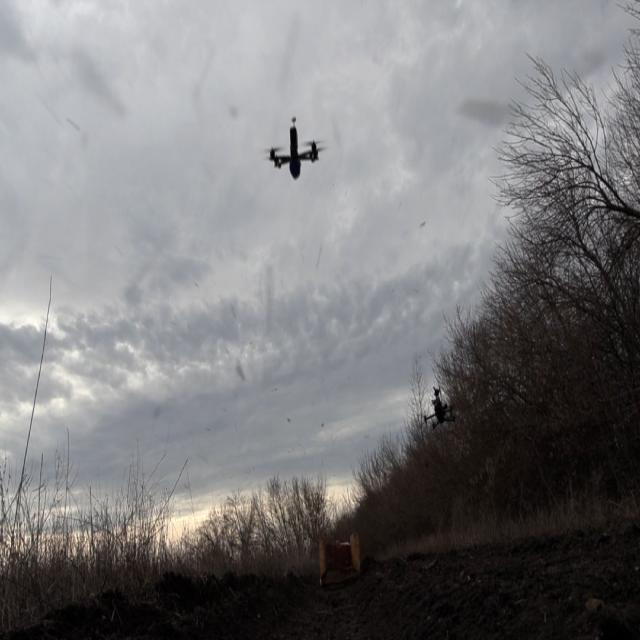drone: (262, 114, 328, 184)
